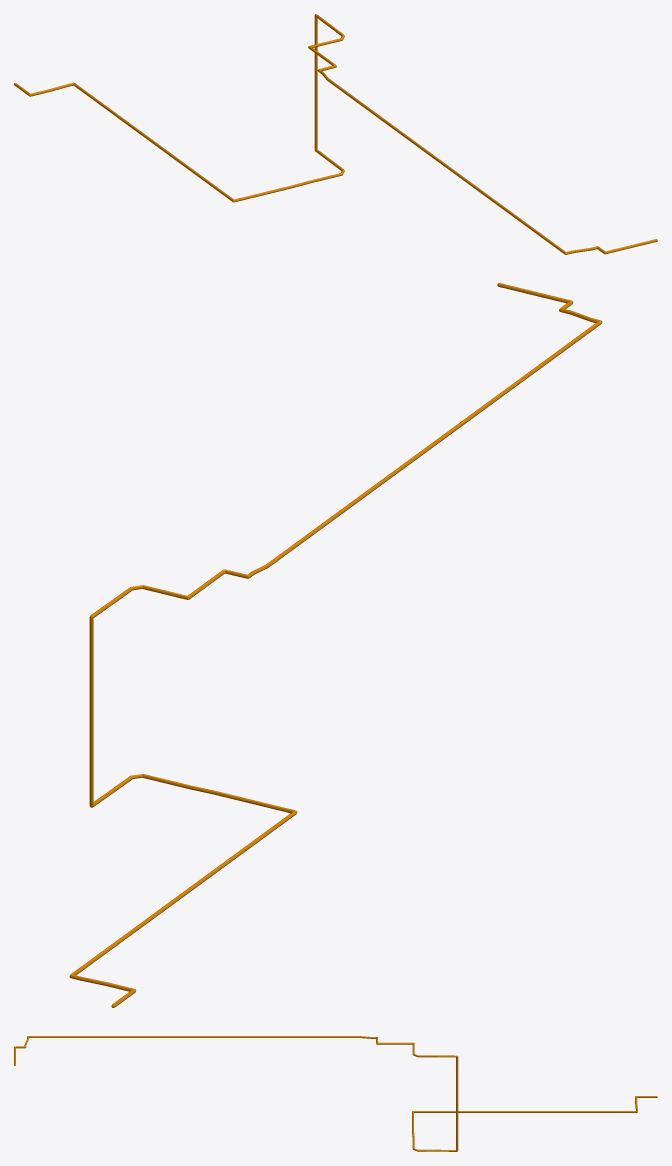
The picture shows the model from 3 angles, top to bottom: view 1: azimuth 30°, elevation 25°; view 2: azimuth 150°, elevation 25°; view 3: azimuth 270°, elevation 25°; orthographic projection. The views are drawn at different scales.
Size of the model in its own units: 1440 by 1020 by 6182.
